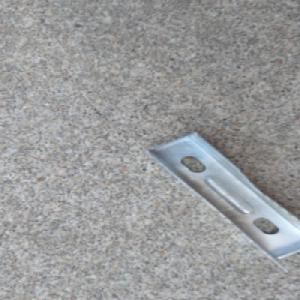ClampPart: (144, 129, 300, 275)
